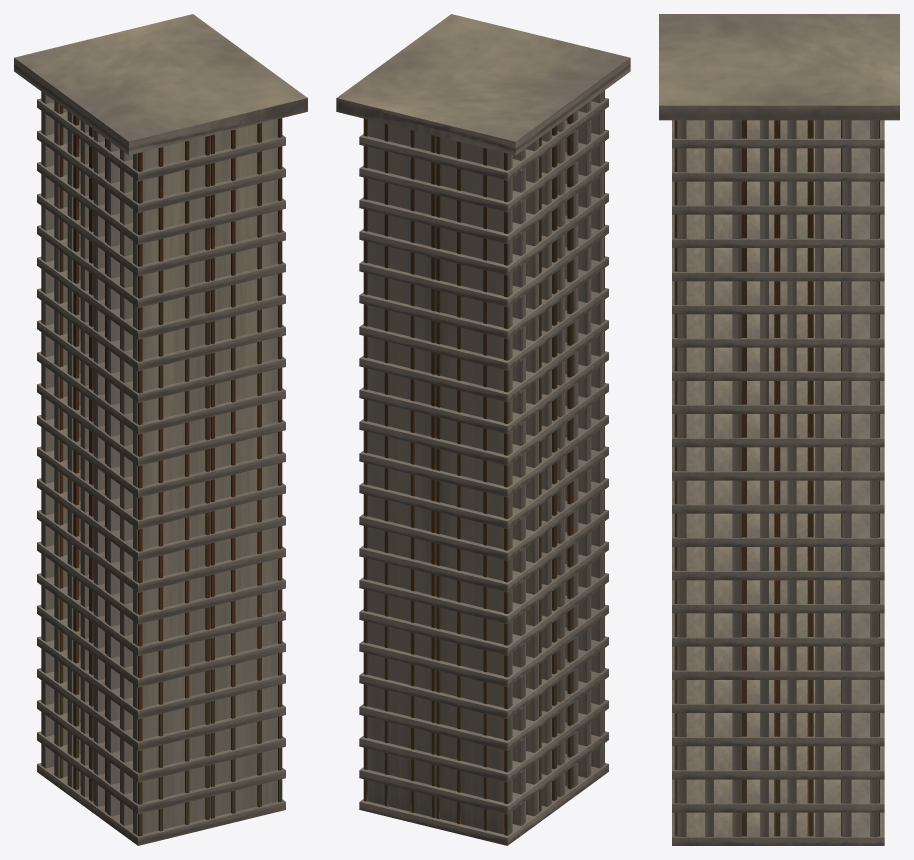
The model's file is Old High Building 2.fbx.
The picture shows the model from 3 angles, left to right: view 1: azimuth 30°, elevation 25°; view 2: azimuth 150°, elevation 25°; view 3: azimuth 270°, elevation 25°; orthographic projection. The views are drawn at different scales.
Parts seen in each view (by area): view 1: thanh cua rir sets .061, thanh cua rir sets .047, thanh cua rir sets .056, thanh cua rir sets .059; view 2: thanh cua rir sets .061, thanh cua rir sets .047, thanh cua rir sets .059, thanh cua rir sets .056; view 3: thanh cua rir sets .047, thanh cua rir sets .061, thanh cua rir sets .059, thanh cua rir sets .056.
Boxes of the visible parts, x1=… form: thanh cua rir sets .061: x1=41, y1=91, x2=277, y2=835; thanh cua rir sets .047: x1=37, y1=98, x2=285, y2=845; thanh cua rir sets .056: x1=59, y1=105, x2=282, y2=836; thanh cua rir sets .059: x1=14, y1=14, x2=307, y2=155; thanh cua rir sets .061: x1=363, y1=91, x2=604, y2=835; thanh cua rir sets .047: x1=359, y1=98, x2=608, y2=845; thanh cua rir sets .059: x1=336, y1=14, x2=630, y2=155; thanh cua rir sets .056: x1=364, y1=90, x2=604, y2=835; thanh cua rir sets .047: x1=672, y1=120, x2=884, y2=845; thanh cua rir sets .061: x1=677, y1=120, x2=878, y2=836; thanh cua rir sets .059: x1=659, y1=14, x2=899, y2=120; thanh cua rir sets .056: x1=674, y1=120, x2=879, y2=836.
Size of the model in its own units: 1375 by 5232 by 1527.
